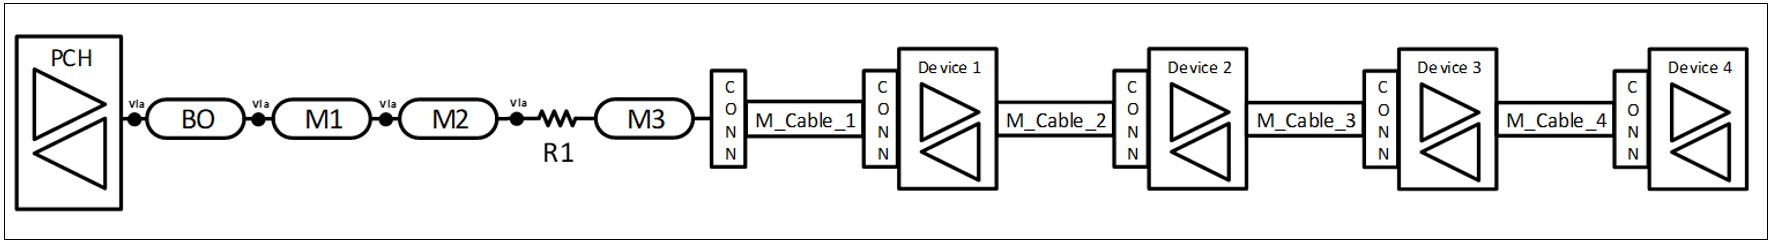oval: (145, 96, 249, 147), (400, 97, 499, 148), (595, 94, 693, 145), (273, 97, 373, 146)
rectangle: (3, 29, 123, 219), (891, 42, 1007, 201), (1393, 44, 1500, 198), (1647, 44, 1752, 199), (1149, 44, 1252, 197), (702, 65, 750, 174), (859, 62, 903, 174), (1110, 69, 1154, 171), (1609, 63, 1650, 173), (1361, 66, 1402, 171)
resistor: (534, 100, 583, 142)
triangle: (24, 114, 114, 196), (25, 66, 110, 145), (910, 79, 991, 142), (1411, 79, 1487, 145), (1162, 78, 1231, 146), (916, 121, 987, 182), (1170, 119, 1238, 182), (1667, 82, 1732, 145), (1669, 120, 1735, 184), (1417, 122, 1484, 182)
